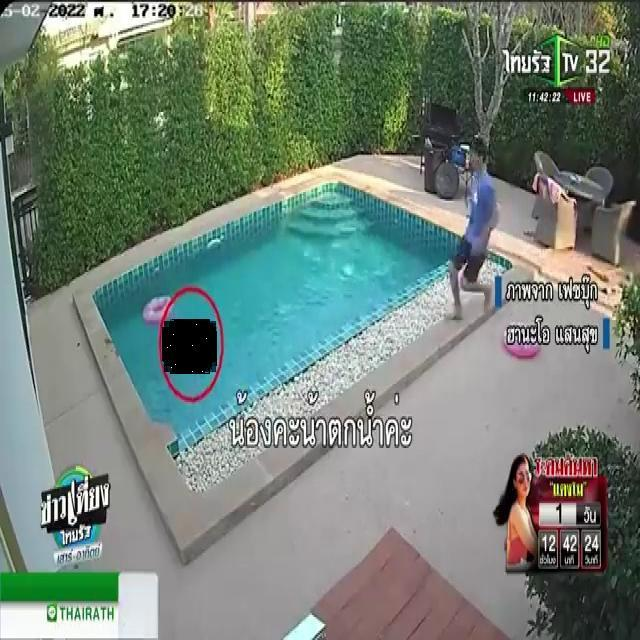Out of Water: (164, 321, 216, 372)
